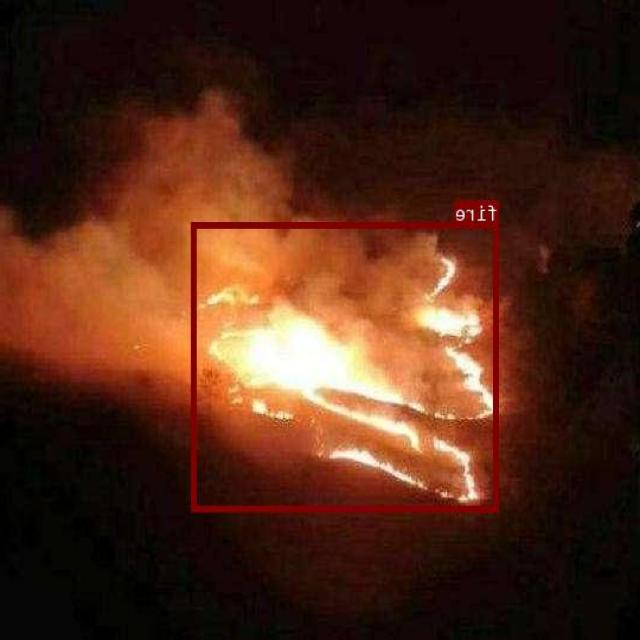fire: (193, 221, 499, 510)
